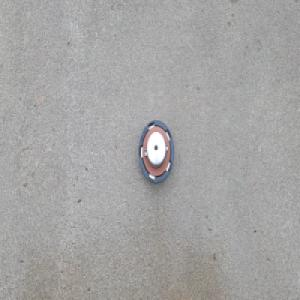FuelCap: (137, 118, 175, 185)
